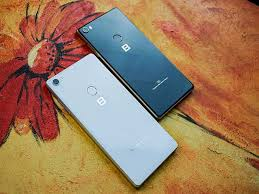bphone: (73, 5, 195, 119)
